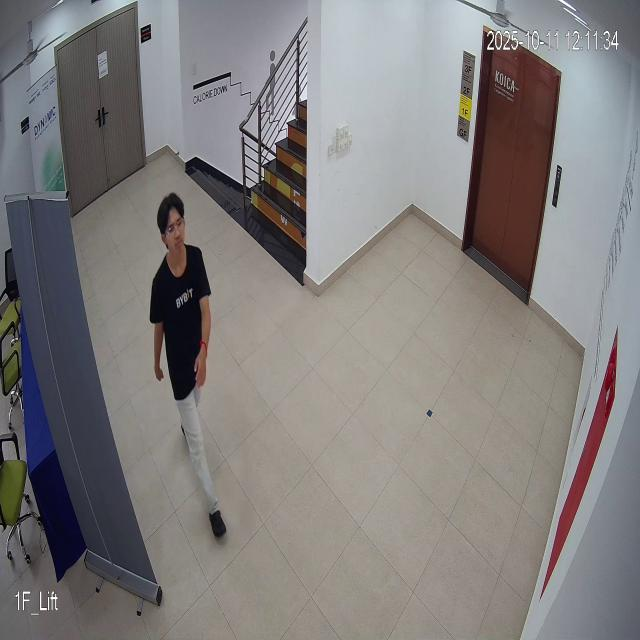face: (157, 189, 192, 267)
